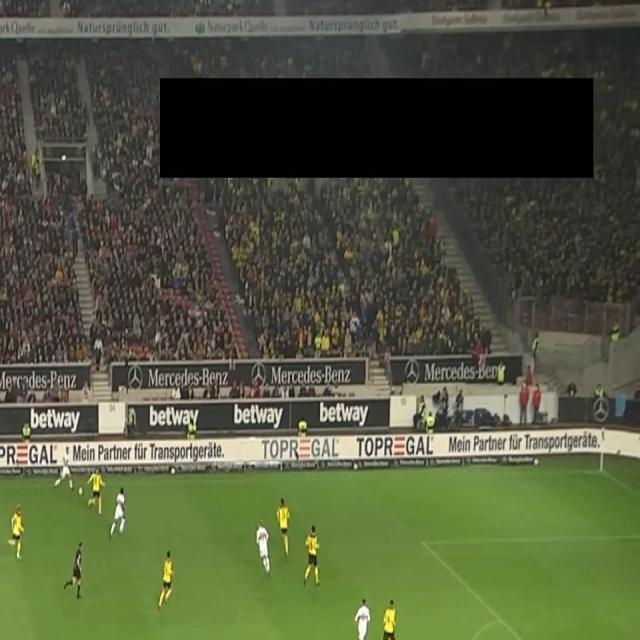ball: (78, 486, 84, 496)
